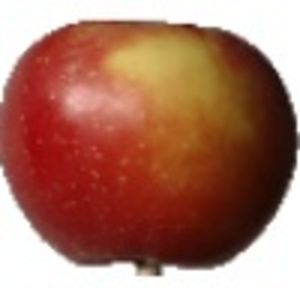maçã braeburn: (1, 18, 300, 269)
